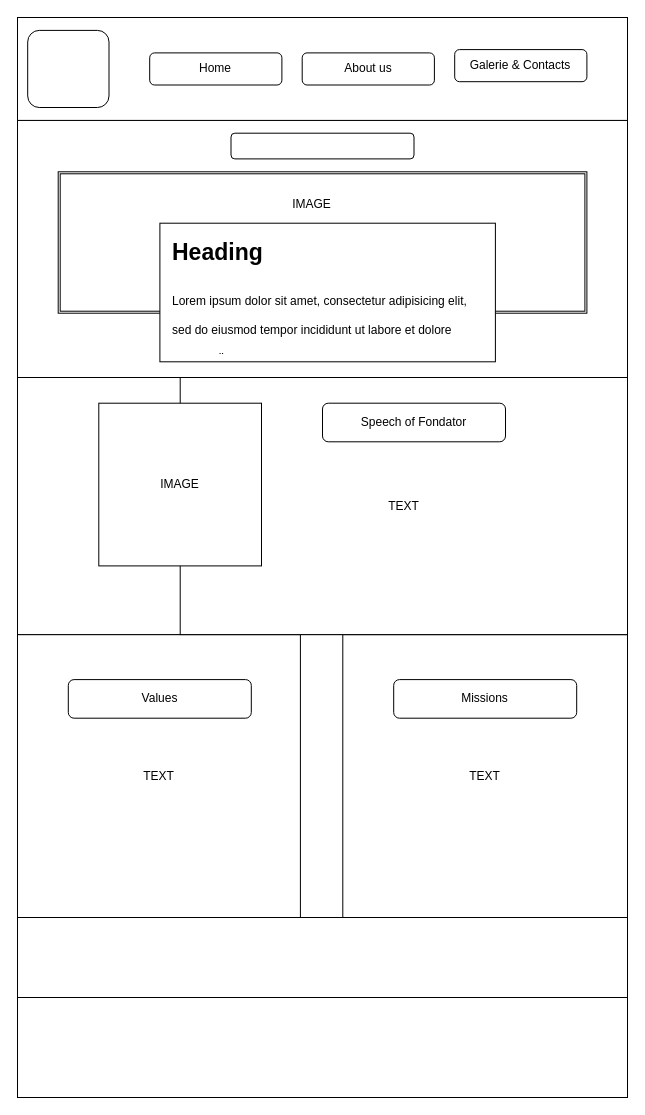
Image size: 645x1115. Some labels were removed from this diagram. Each missing label, with the centre of its shape:
Footer: the point at 322,1046
HEADING: the point at 322,145
Logo: the point at 68,68
